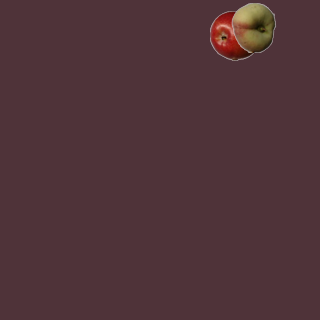Apple Braeburn: (209, 10, 259, 60)
Peach Flat: (228, 2, 278, 52)
